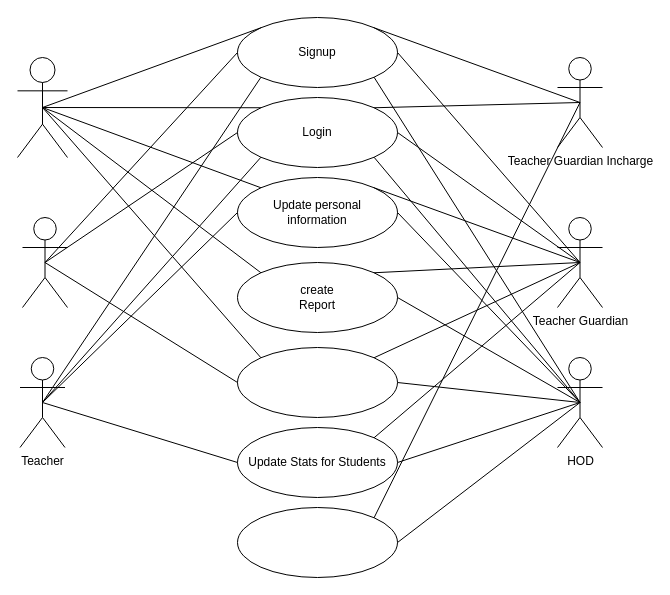
The diagram is 670 pixels wide and 595 high, and some of its shapes have lost their labels. Here are the shapes that lost their labels. From the top down, the box of each, then its label:
(16, 56, 68, 158): Student
(22, 216, 68, 308): Parent
(236, 346, 398, 418): Check Stats
(236, 506, 398, 578): Assign TG to students
